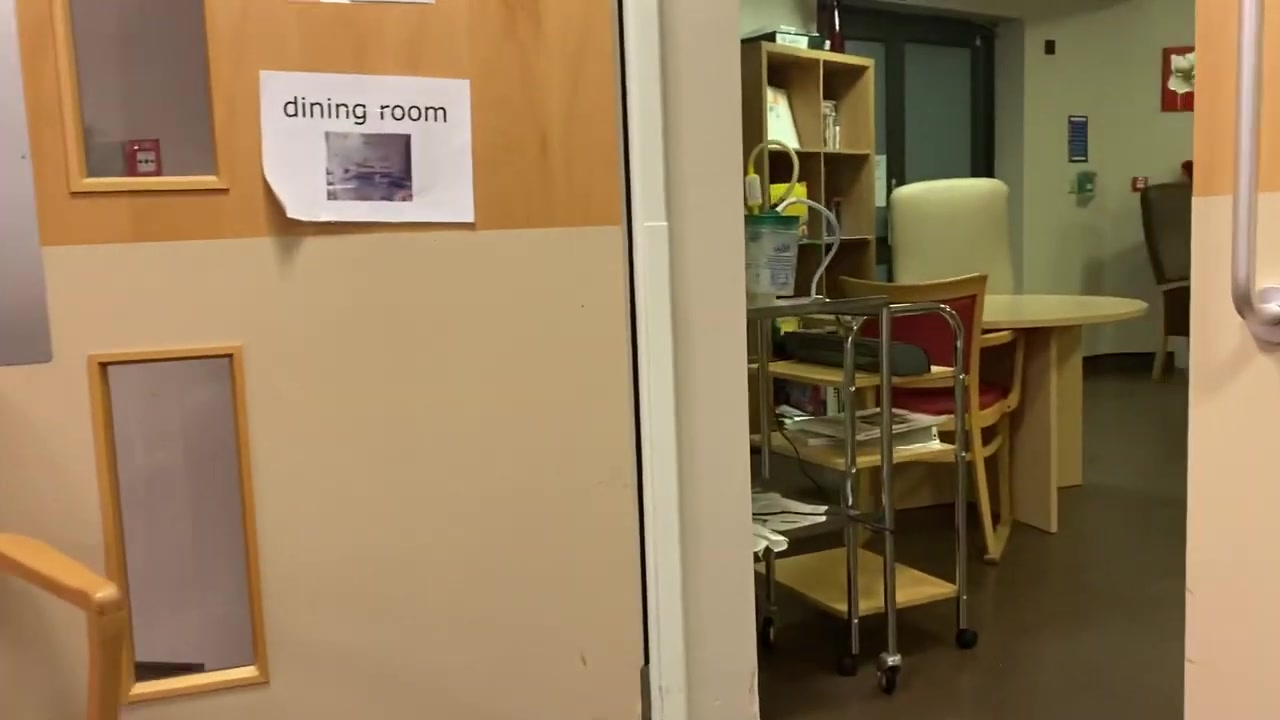chair: (838, 273, 1015, 565), (1141, 179, 1191, 381)
door_handle: (1230, 1, 1280, 358)
sofa: (889, 178, 1014, 294)
table: (981, 291, 1146, 529)
utility_cart: (747, 295, 978, 696)
